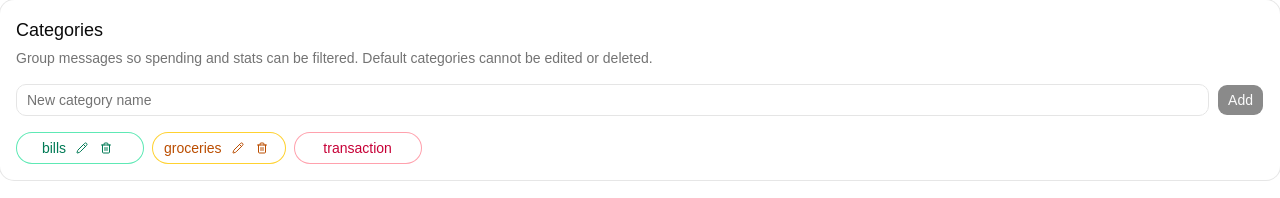
Scenario: CategoriesSection › edits a category inline
Expected: the text "bills" is shown, [16,132,144,164]
Click the button named "edit" next to "bills" at (82, 148), box [70,136,94,160]
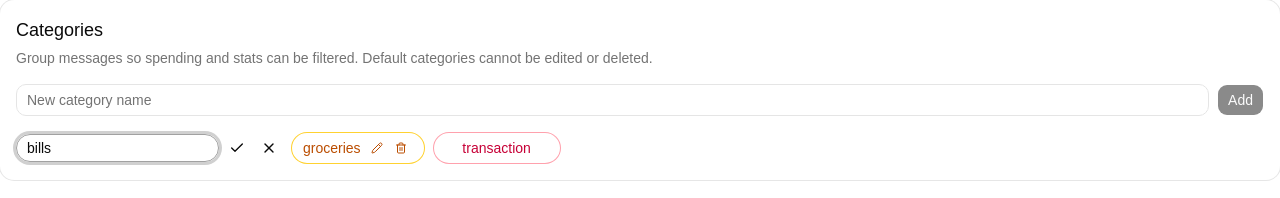
Replace the text in the field showing "bills" with "utilities" at (118, 148), box [16,134,219,162]
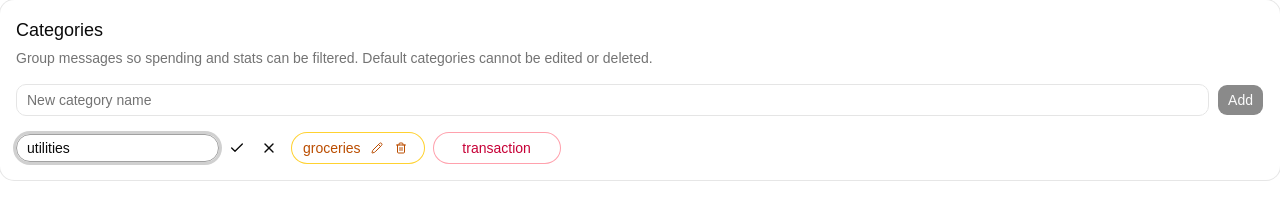
Click the button named "save" at (237, 148), box [223,134,251,162]
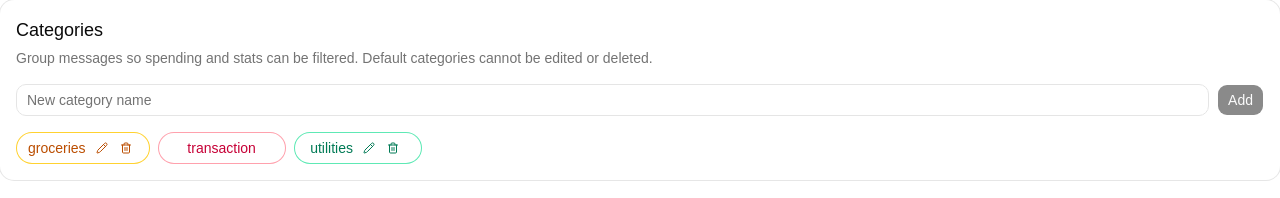
Expected: the text "utilities" is shown, [294,132,422,164]
